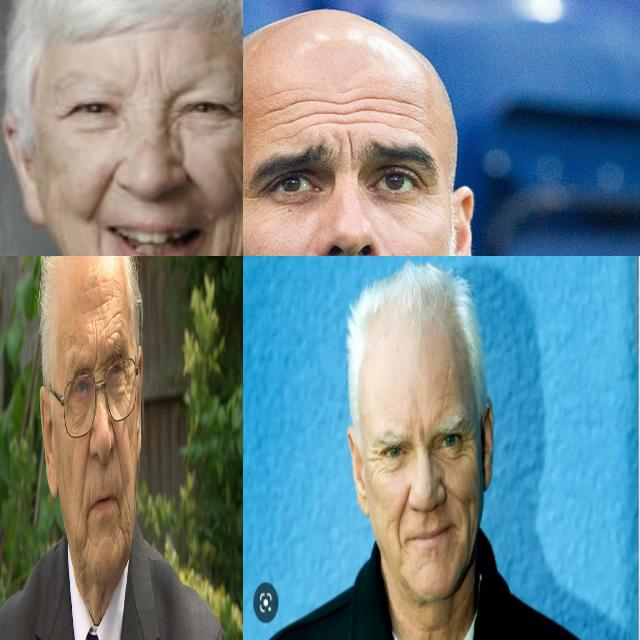crows_feet: (423, 176, 439, 210), (461, 428, 477, 460), (230, 87, 243, 125), (368, 442, 382, 468), (243, 189, 263, 206), (63, 388, 71, 416), (123, 365, 131, 392)
forehead: (262, 93, 334, 135), (346, 92, 420, 132), (441, 368, 452, 402), (101, 272, 118, 289), (70, 336, 86, 354), (92, 294, 106, 312), (107, 326, 121, 342), (110, 305, 123, 322), (107, 287, 119, 304), (93, 319, 99, 349)
frown_line: (126, 50, 166, 101), (342, 138, 356, 160), (93, 355, 106, 375)
gummy_smile: (86, 158, 112, 216), (396, 486, 410, 538), (82, 444, 90, 492), (113, 428, 122, 470)
masseter: (222, 211, 243, 256), (464, 505, 474, 556), (126, 424, 136, 461), (74, 502, 82, 534), (66, 453, 74, 484)
sad_smile: (116, 499, 126, 536), (82, 513, 90, 549)
